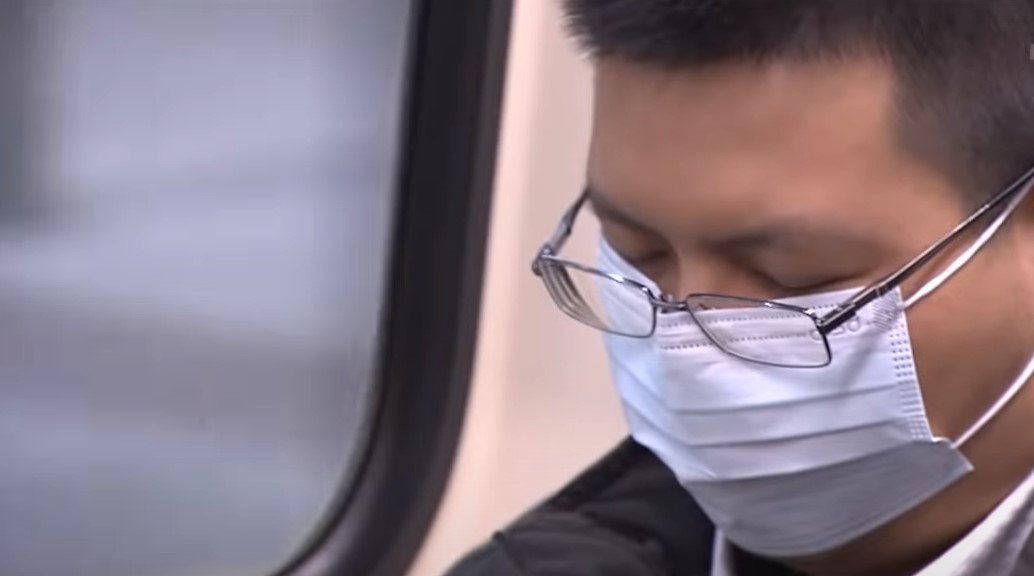face_with_mask: (543, 12, 1029, 570)
